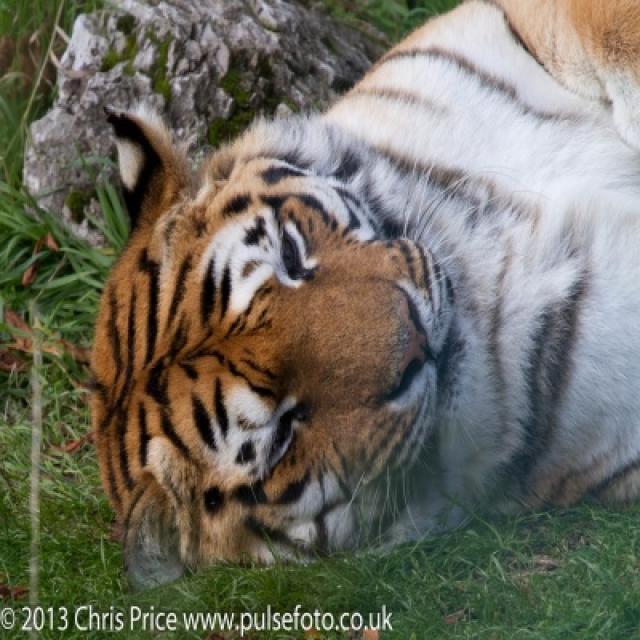Tiger: (103, 2, 638, 581)
